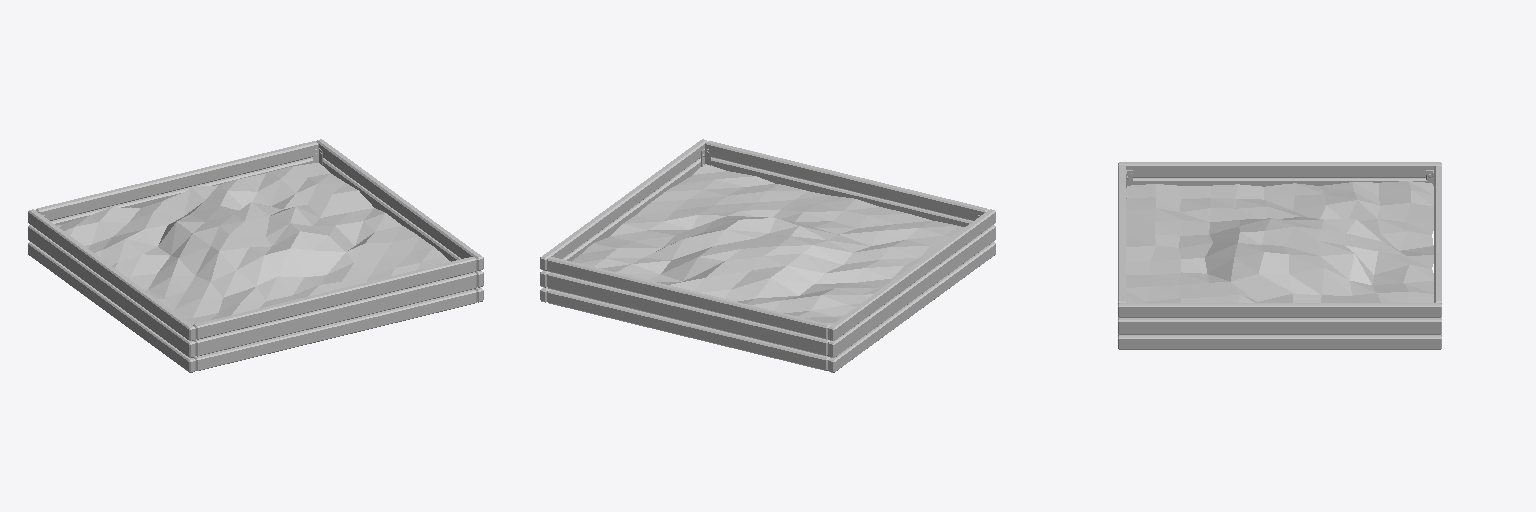
The model's file is sand.obj.
3 renders of one model, left to right at view 1: azimuth 30°, elevation 25°; view 2: azimuth 150°, elevation 25°; view 3: azimuth 270°, elevation 25°, orthographic.
Parts seen in each view (by area): view 1: child_sand, child_sandbox; view 2: child_sand, child_sandbox; view 3: child_sand, child_sandbox.
Part boxes in pixels (bbox=[...]): child_sand: bbox=[57, 163, 450, 324]; child_sandbox: bbox=[28, 139, 483, 372]; child_sand: bbox=[572, 164, 964, 325]; child_sandbox: bbox=[540, 139, 995, 372]; child_sand: bbox=[1126, 181, 1433, 302]; child_sandbox: bbox=[1118, 162, 1441, 349].
Size of the model in its own units: 2.19 by 0.3192 by 2.08.